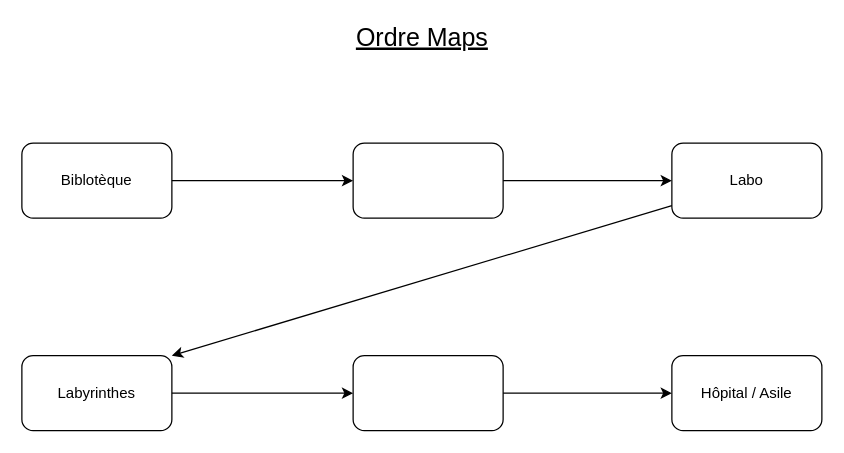
This 844x453 diagram has some shape labels left out. The shapes that lost their labels are listed below. From the top down, each one's box as (x1, y1, x2, y2) in pixels, then its label:
(352, 142, 503, 218): Prison
(352, 354, 503, 431): Scène de crime
